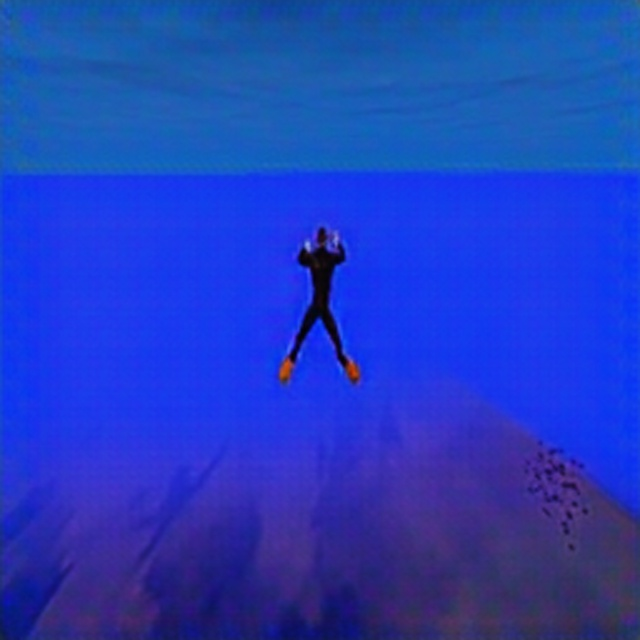diver: (277, 223, 362, 388)
